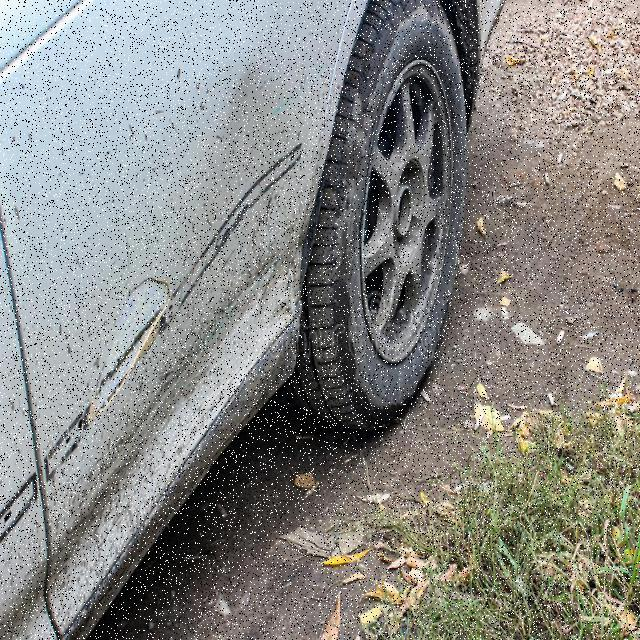doorouter-dent: (3, 2, 342, 514)
